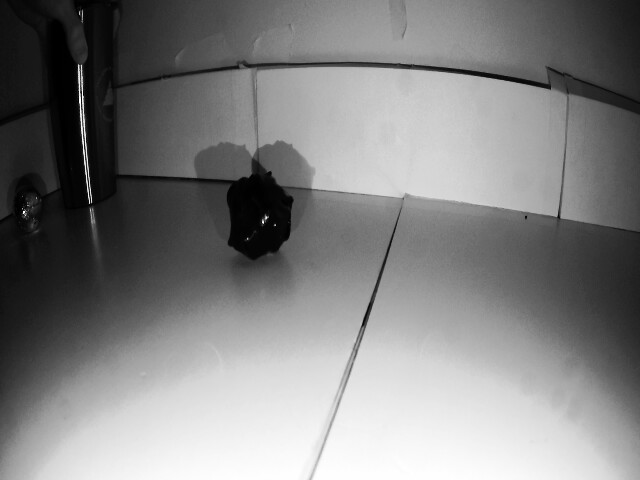black: (220, 181, 301, 258)
silver: (8, 173, 53, 233)
